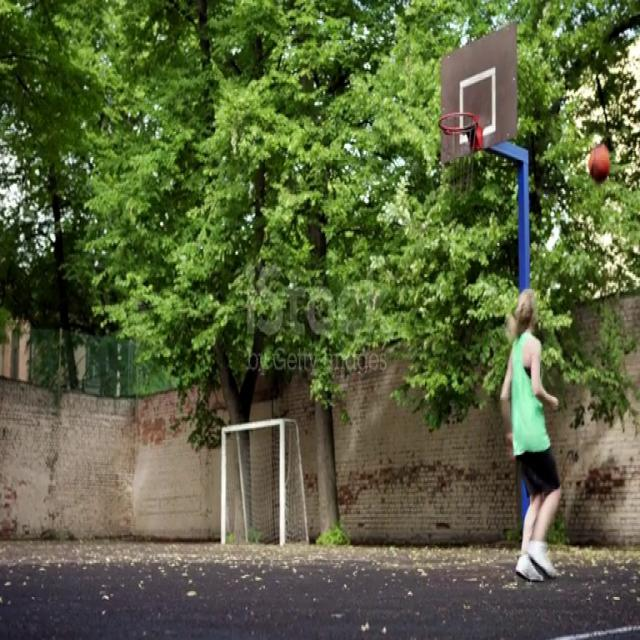ball: (587, 142, 611, 184)
